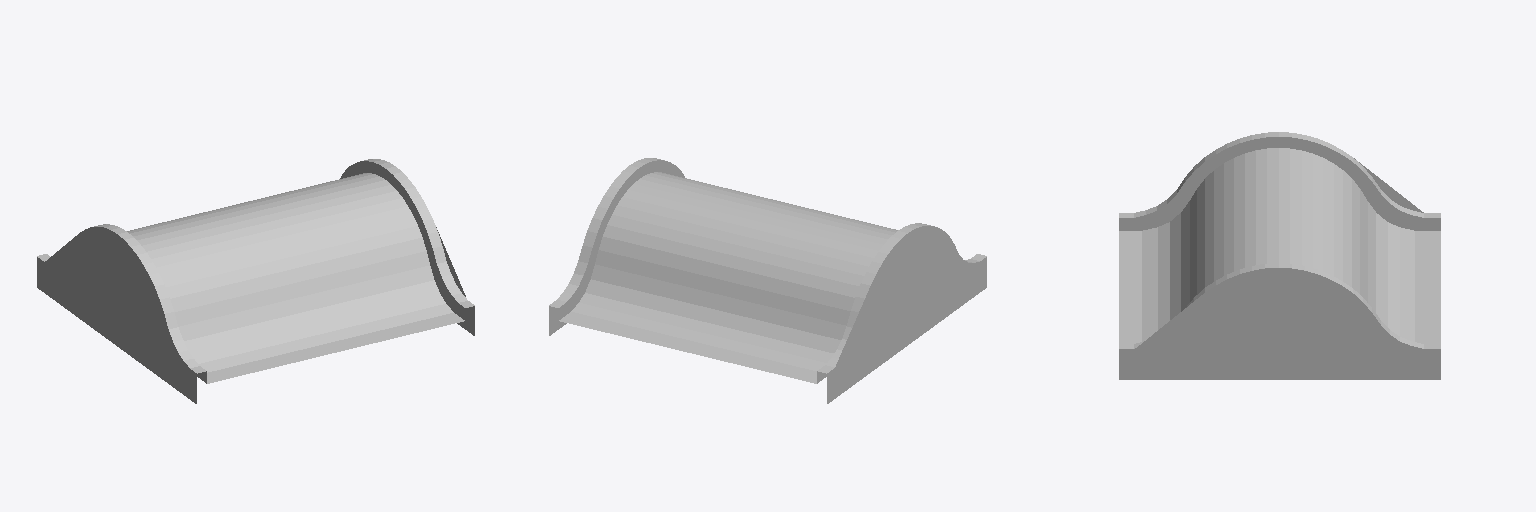
File: bHill_B_3x3.obj
3 views of the same model, side by side, from view 1: azimuth 30°, elevation 25°; view 2: azimuth 150°, elevation 25°; view 3: azimuth 270°, elevation 25° (orthographic).
Visible parts, largest first — view 1: bHill_B_3x3; view 2: bHill_B_3x3; view 3: bHill_B_3x3.
Boxes of the visible parts, x1,y1,x2,y2 form: bHill_B_3x3: [37, 159, 474, 403]; bHill_B_3x3: [549, 158, 986, 403]; bHill_B_3x3: [1119, 132, 1440, 379].
Bounding box in the file's own units: 3 × 1.16 × 3.